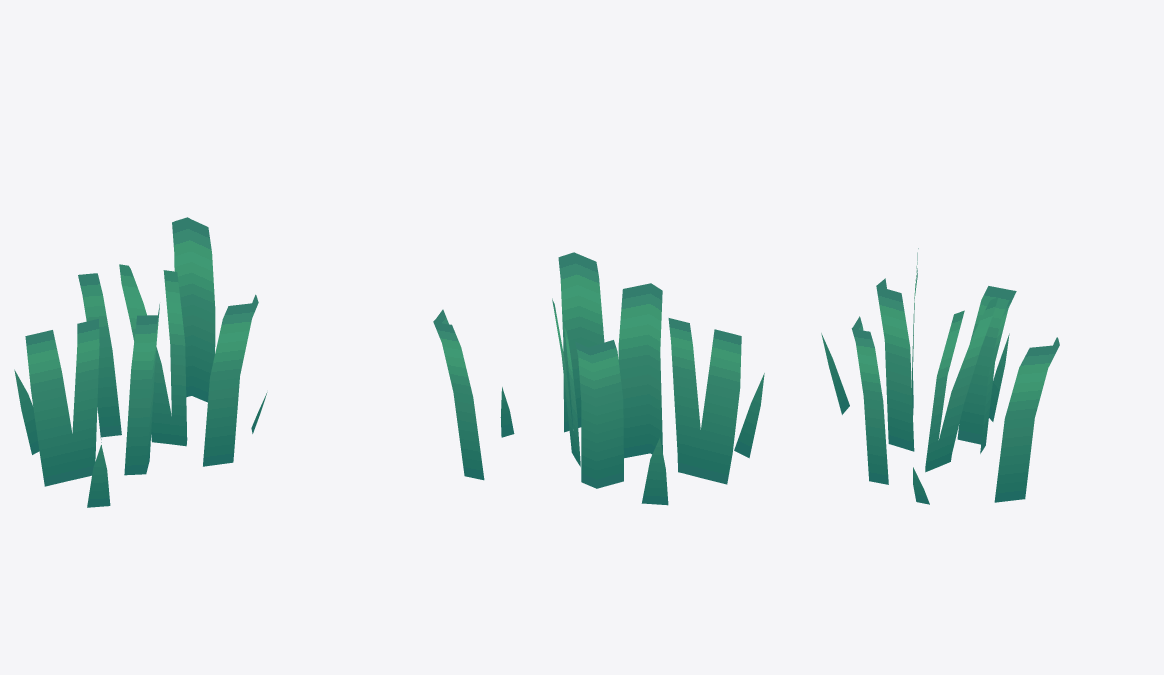
File: Grass_Common_Short.fbx
3 renders of one model, left to right at view 1: azimuth 30°, elevation 25°; view 2: azimuth 150°, elevation 25°; view 3: azimuth 270°, elevation 25°, orthographic. The views are drawn at different scales.
Parts seen in each view (by area): view 1: Grass_Common_Short; view 2: Grass_Common_Short; view 3: Grass_Common_Short.
Part boxes in pixels (x1,y1,x2,y2): Grass_Common_Short: [14, 217, 267, 507]; Grass_Common_Short: [433, 252, 764, 505]; Grass_Common_Short: [821, 248, 1059, 504].
Size of the model in its own units: 63.89 by 133 by 73.73.
